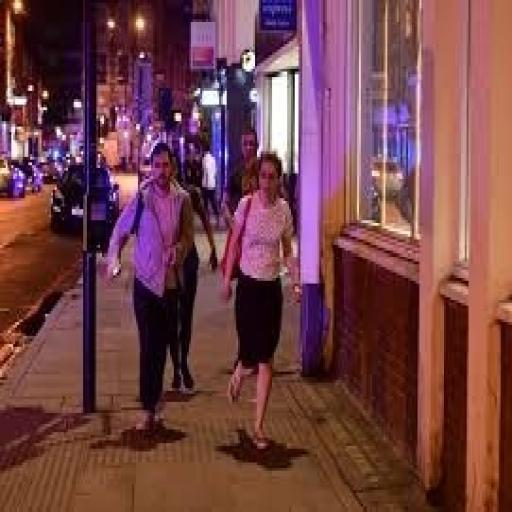running: (102, 138, 198, 435), (219, 149, 302, 454)
